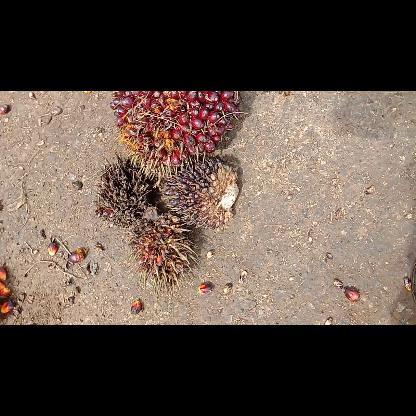TBS abnormal: (159, 157, 243, 230), (128, 206, 194, 292), (92, 158, 154, 230)
TBS masak: (108, 91, 244, 169)
